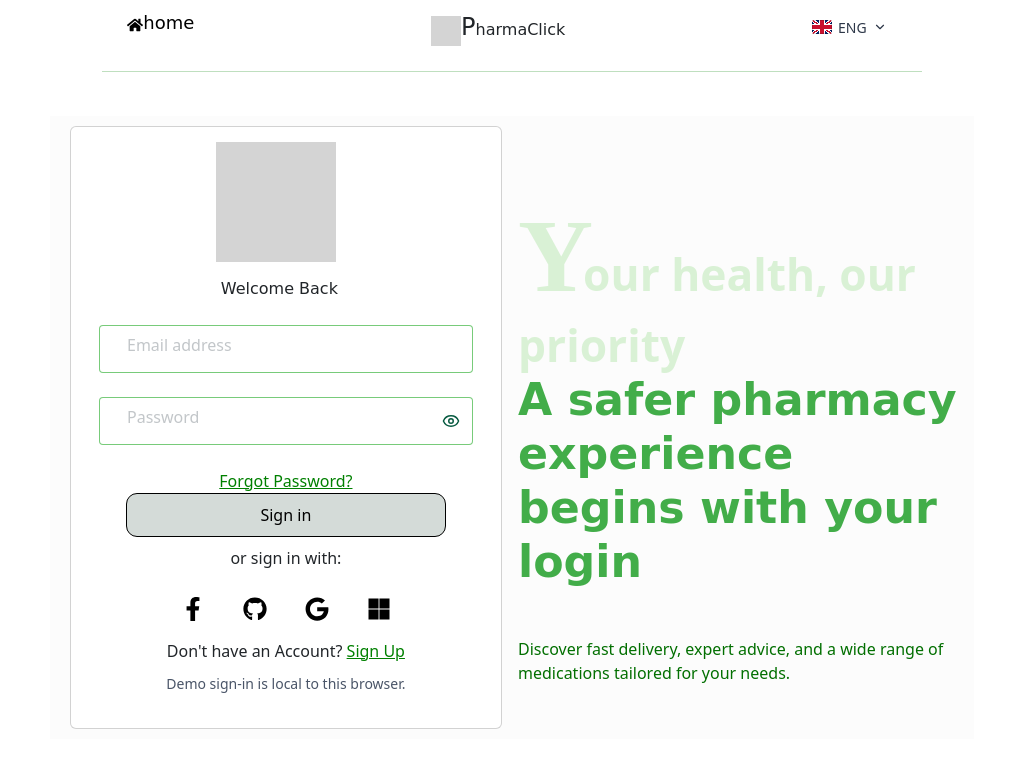
sign-in reveals passwords without changing their value or submitting
Type "  example password  " into the password field labelled "Password" at (286, 421), box [99, 397, 473, 445]
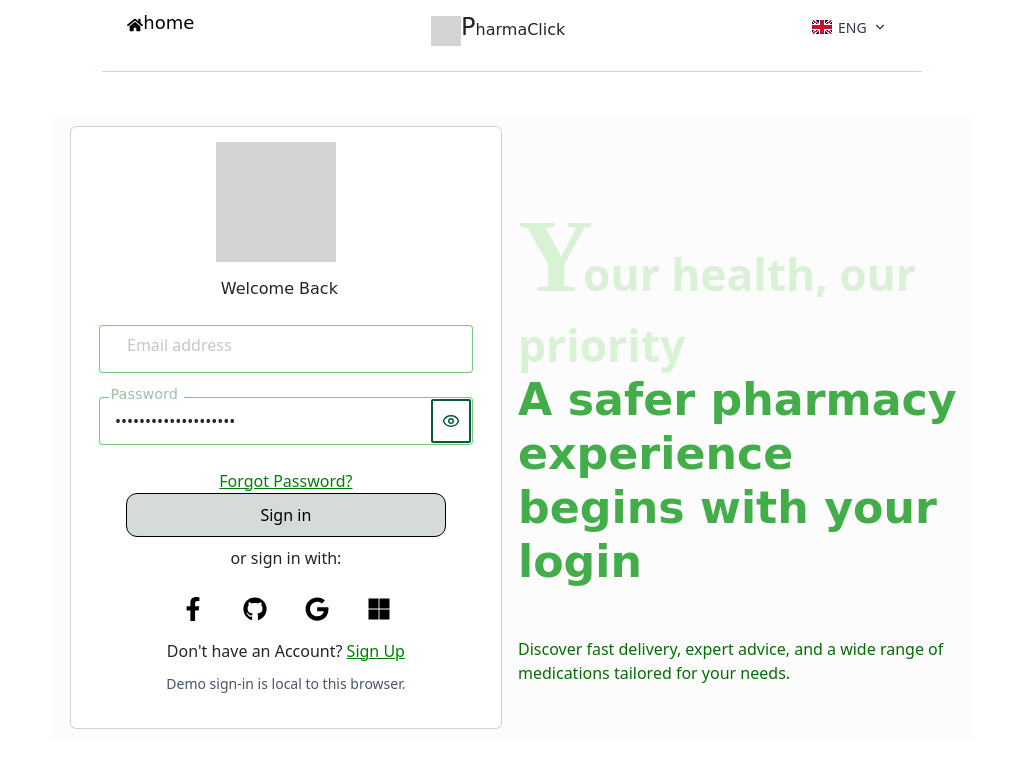
Click the button named "Show password" at (451, 421), box [429, 397, 473, 445]
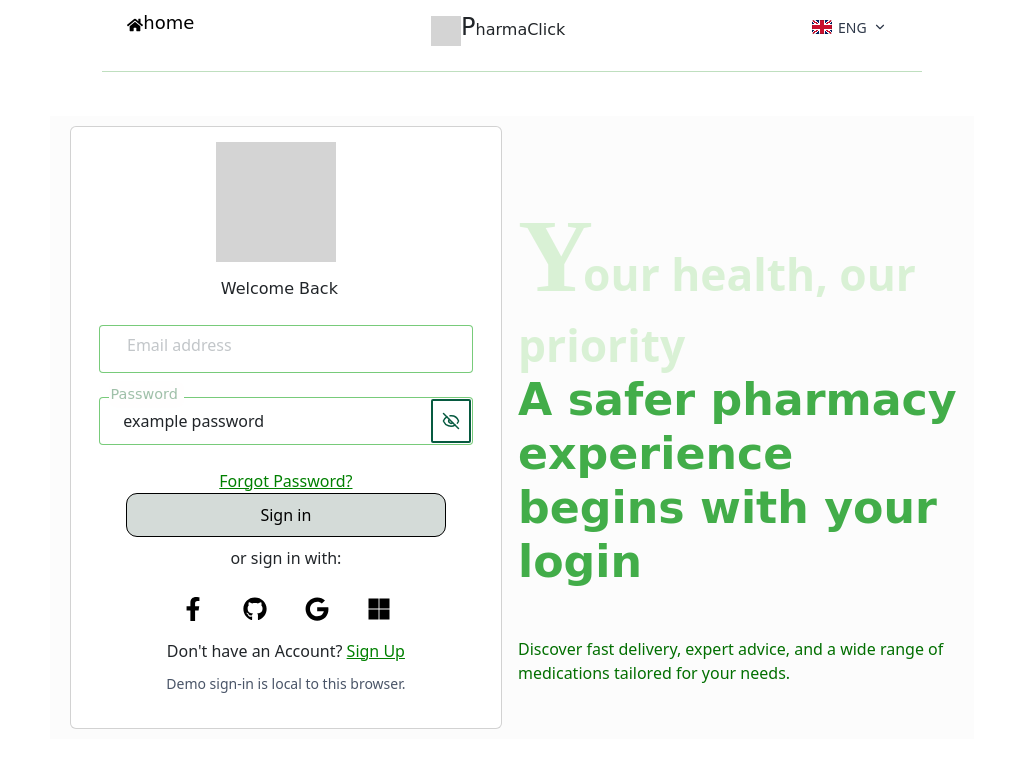
Check: the field labelled "Password" shows its text, box [99, 397, 473, 445]
Click the button named "Show password" at (451, 421), box [429, 397, 473, 445]
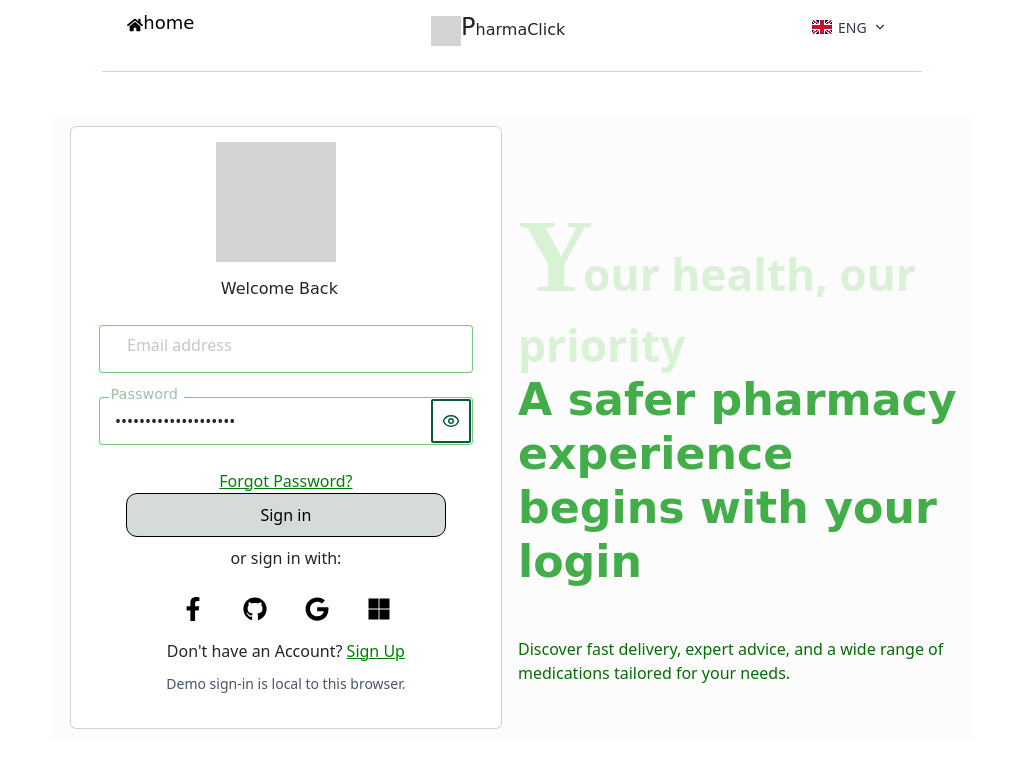
Check: the password field labelled "Password" hides its text, box [99, 397, 473, 445]
